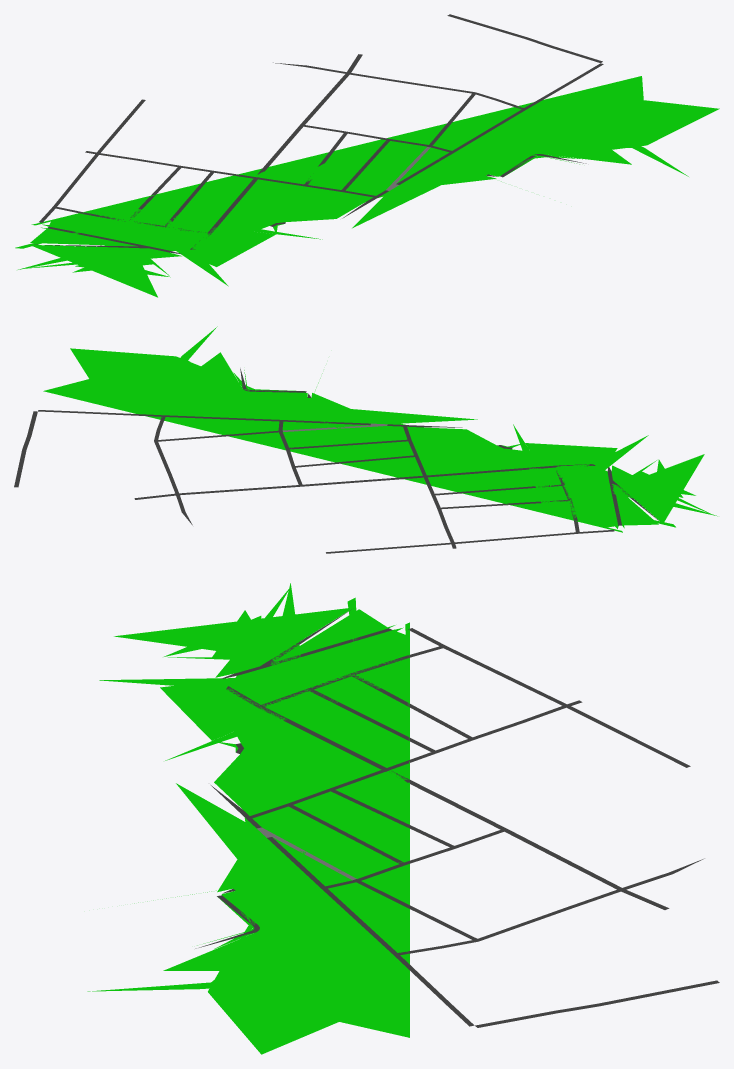
The picture shows the model from 3 angles, top to bottom: view 1: azimuth 30°, elevation 25°; view 2: azimuth 150°, elevation 25°; view 3: azimuth 270°, elevation 25°; orthographic projection. The views are drawn at different scales.
Bounding box in the file's own units: 678 × 0.001 × 428.
